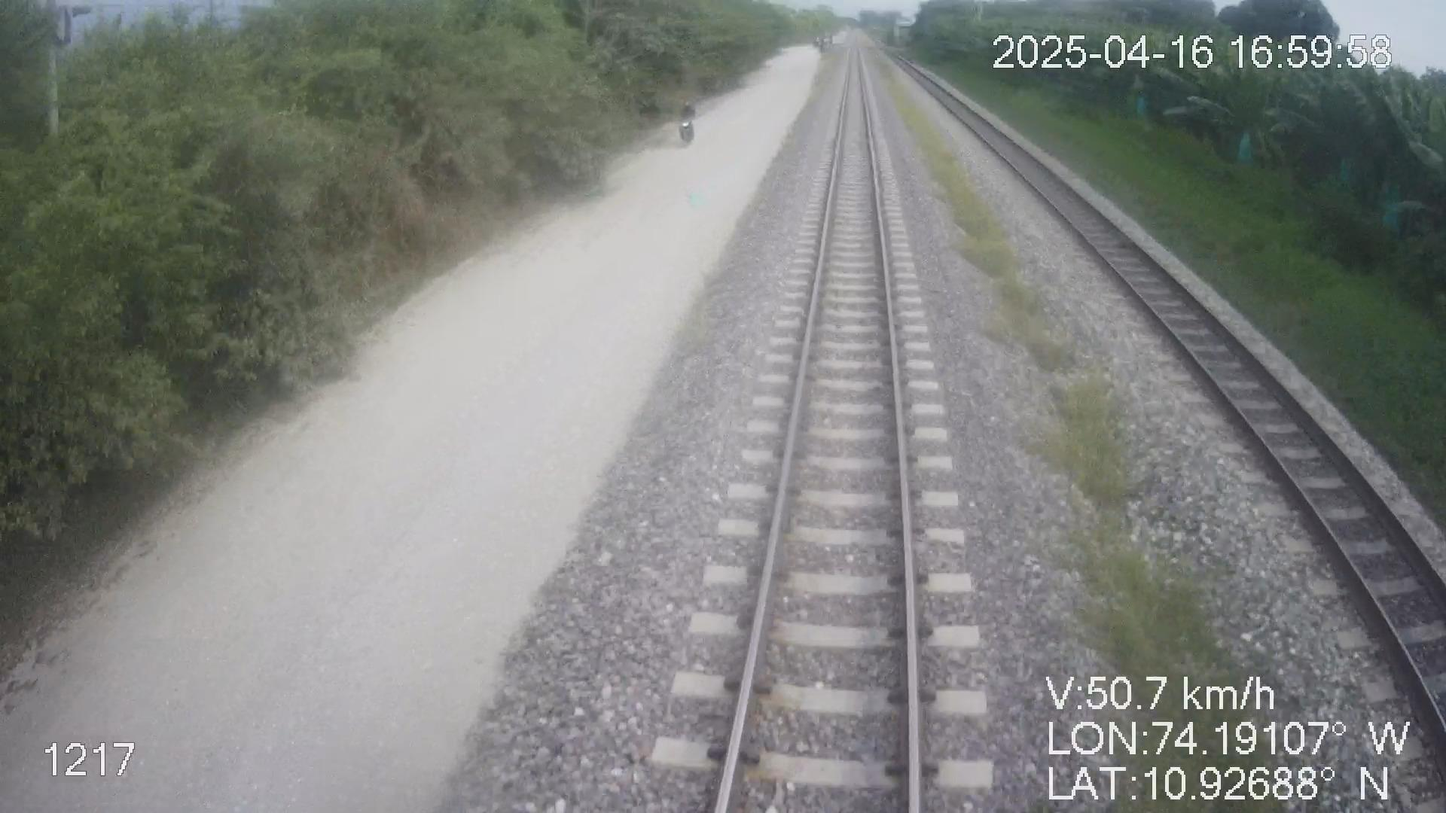Pasto: (0, 0, 827, 744), (857, 0, 1445, 544)
